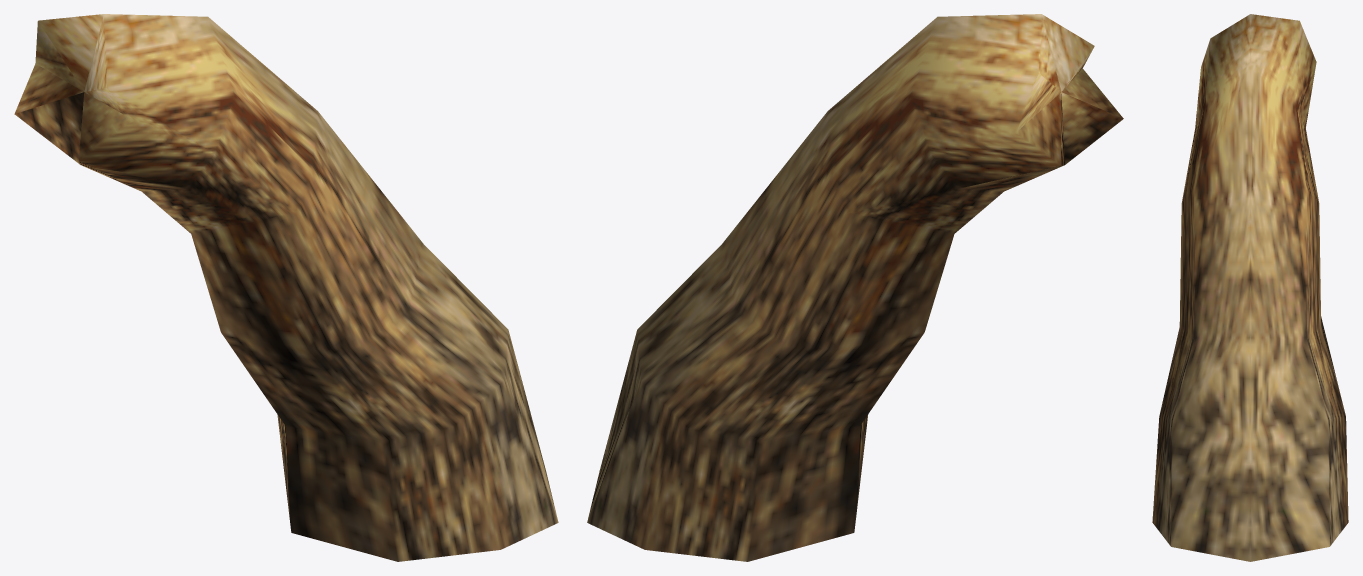
3 views of the same model, side by side, from view 1: azimuth 30°, elevation 25°; view 2: azimuth 150°, elevation 25°; view 3: azimuth 270°, elevation 25° (orthographic). The views are drawn at different scales.
Visible parts, largest first — view 1: SMDImport; view 2: SMDImport; view 3: SMDImport.
Boxes of the visible parts, x1,y1,x2,y2 form: SMDImport: (14,14,558,561); SMDImport: (587,14,1123,561); SMDImport: (1152,14,1348,561).
Size of the model in its own units: 365 by 396 by 178.
